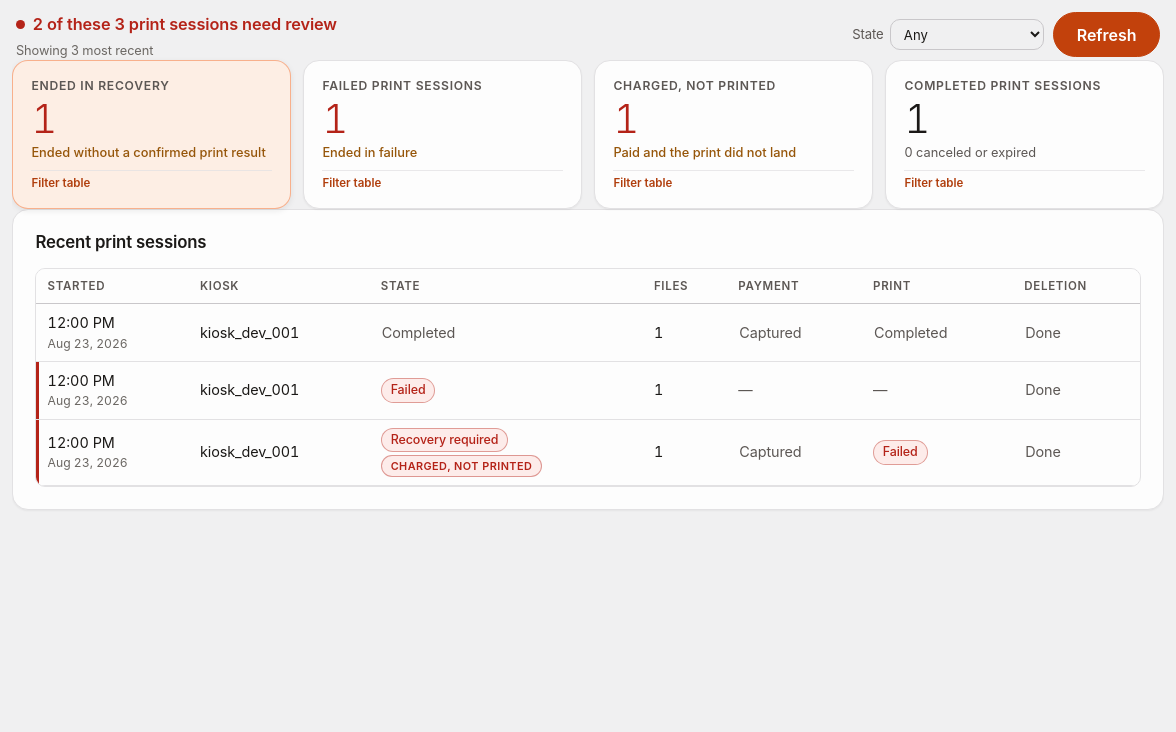
Test: the summary tiles › filters to charged-but-unprinted sessions without asking the server for a state
Click the button with aria-label "Charged, not printed: 1.".
click(695, 86)  # box [595,62,872,208]
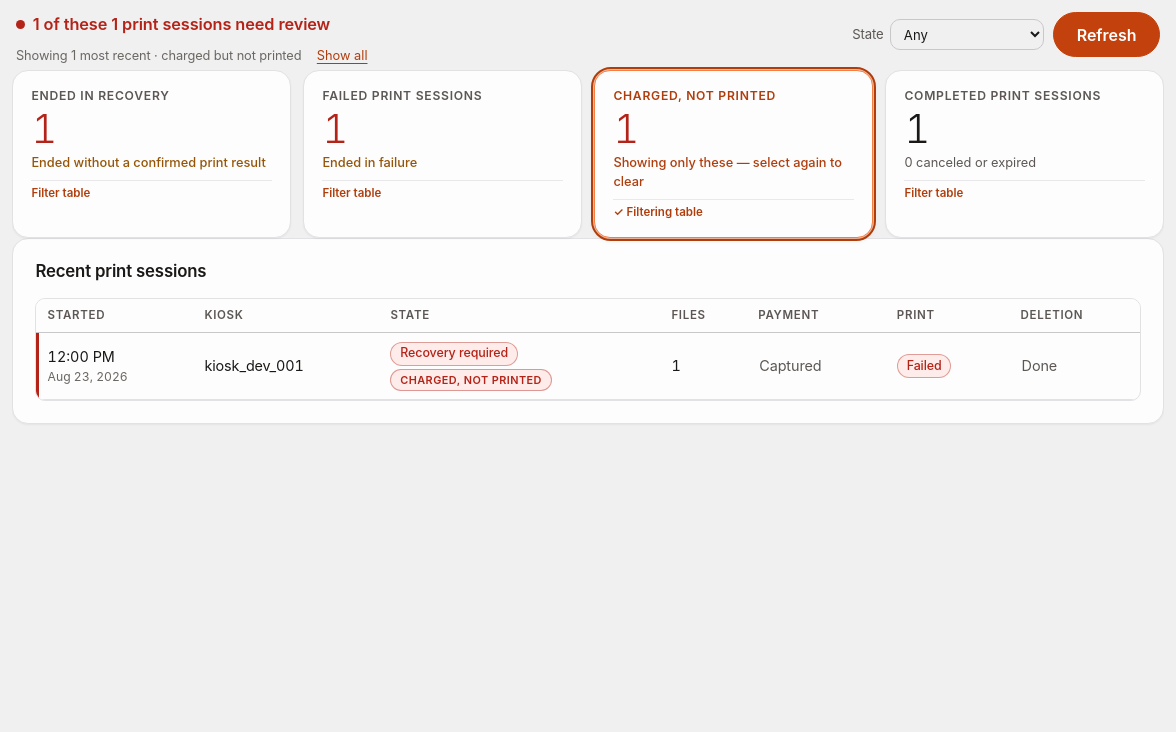
Expected: the dropdown labelled "State" shows "Any", [890,19,1044,50]
Now the number of buttons named "Print session on " is 1, box [48,346,182,386]
